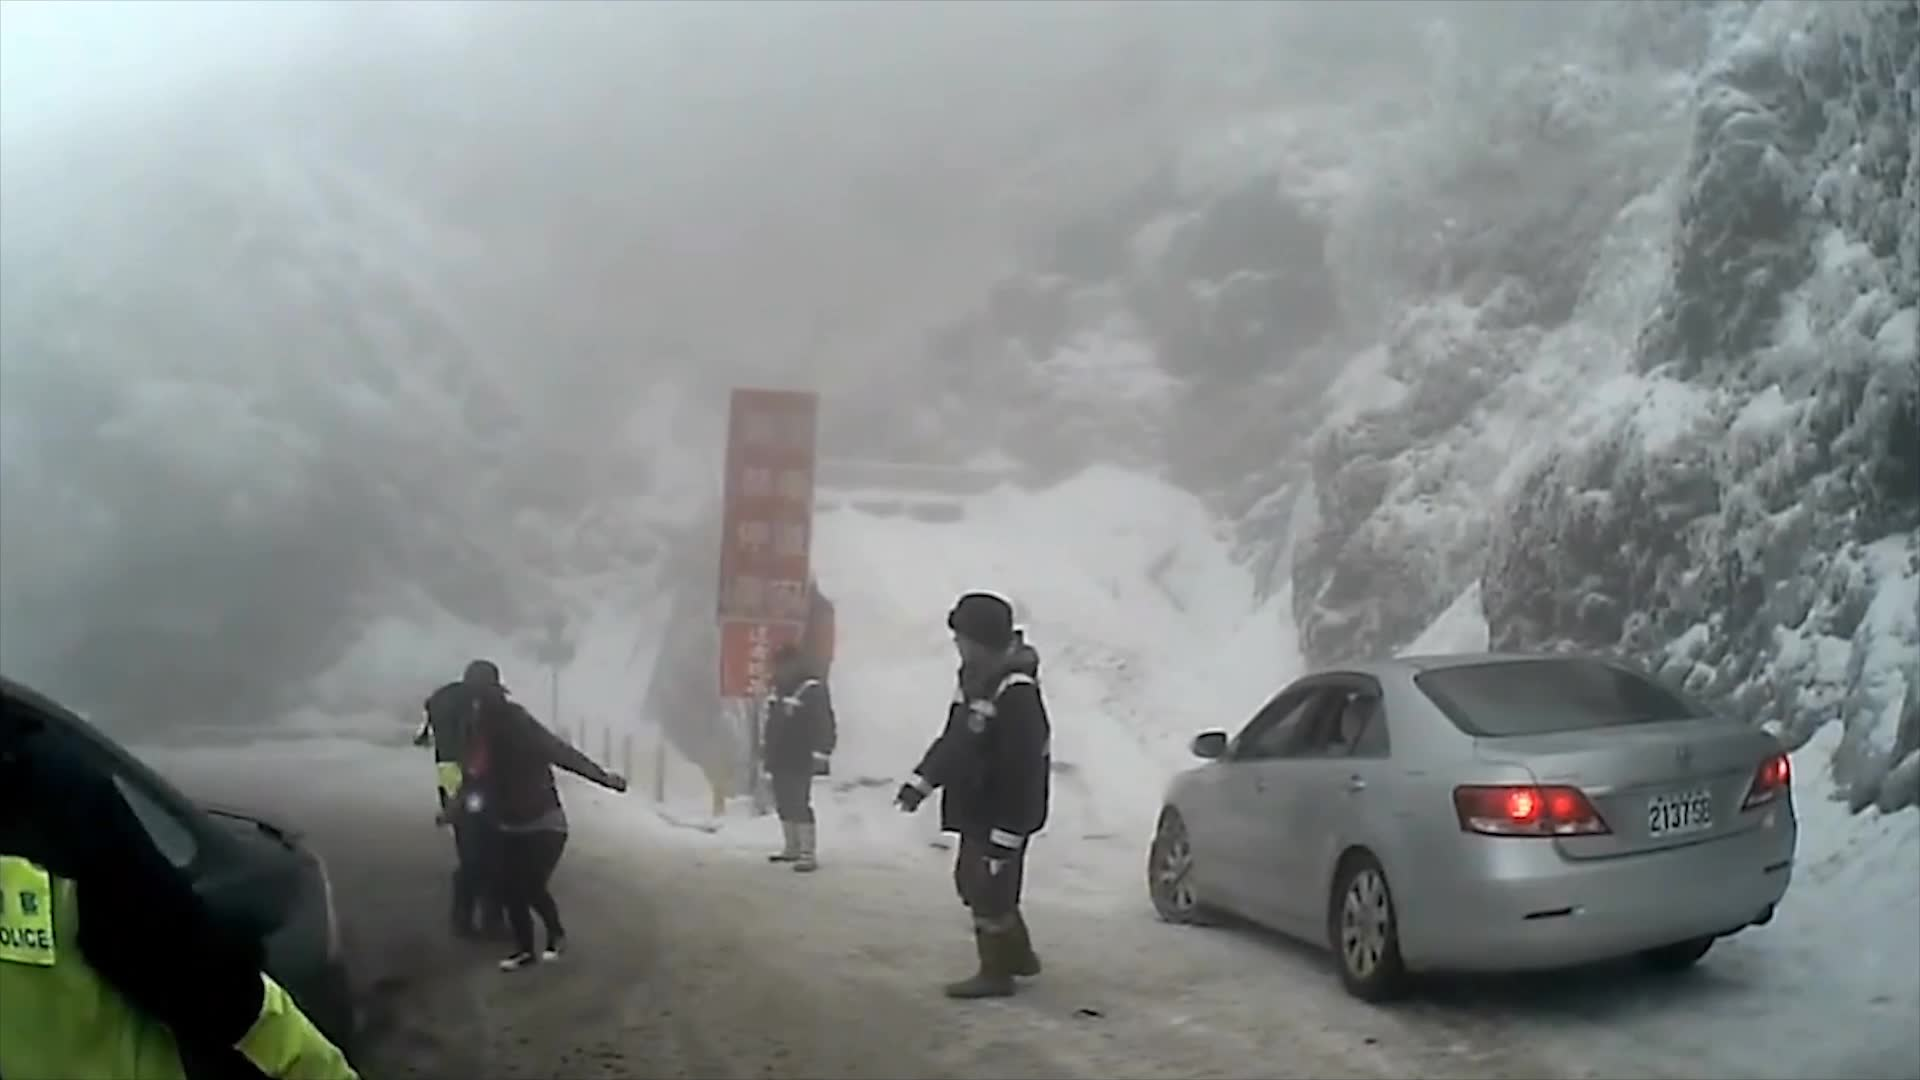pedestrian: (1, 616, 358, 1078), (895, 586, 1057, 1003), (432, 681, 628, 972), (762, 635, 838, 875), (778, 565, 840, 744)
vehicle: (1141, 650, 1796, 1002), (0, 676, 359, 1079)
